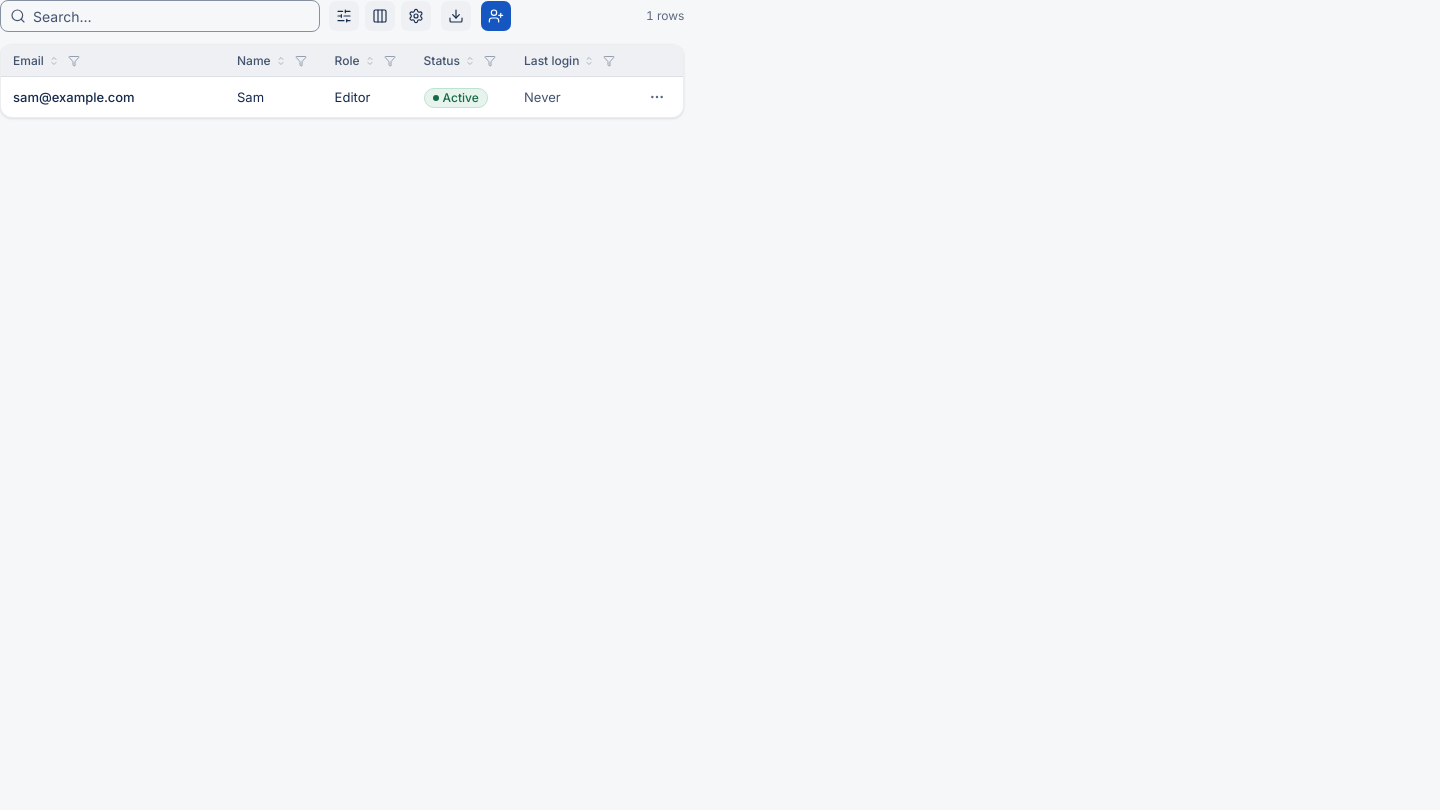
every list of records is a managed table covering every field › Users
Expected: the text "sam@example.com" is shown, [13, 87, 135, 107]
Click the button named "Columns": (380, 16) [364, 0, 396, 32]
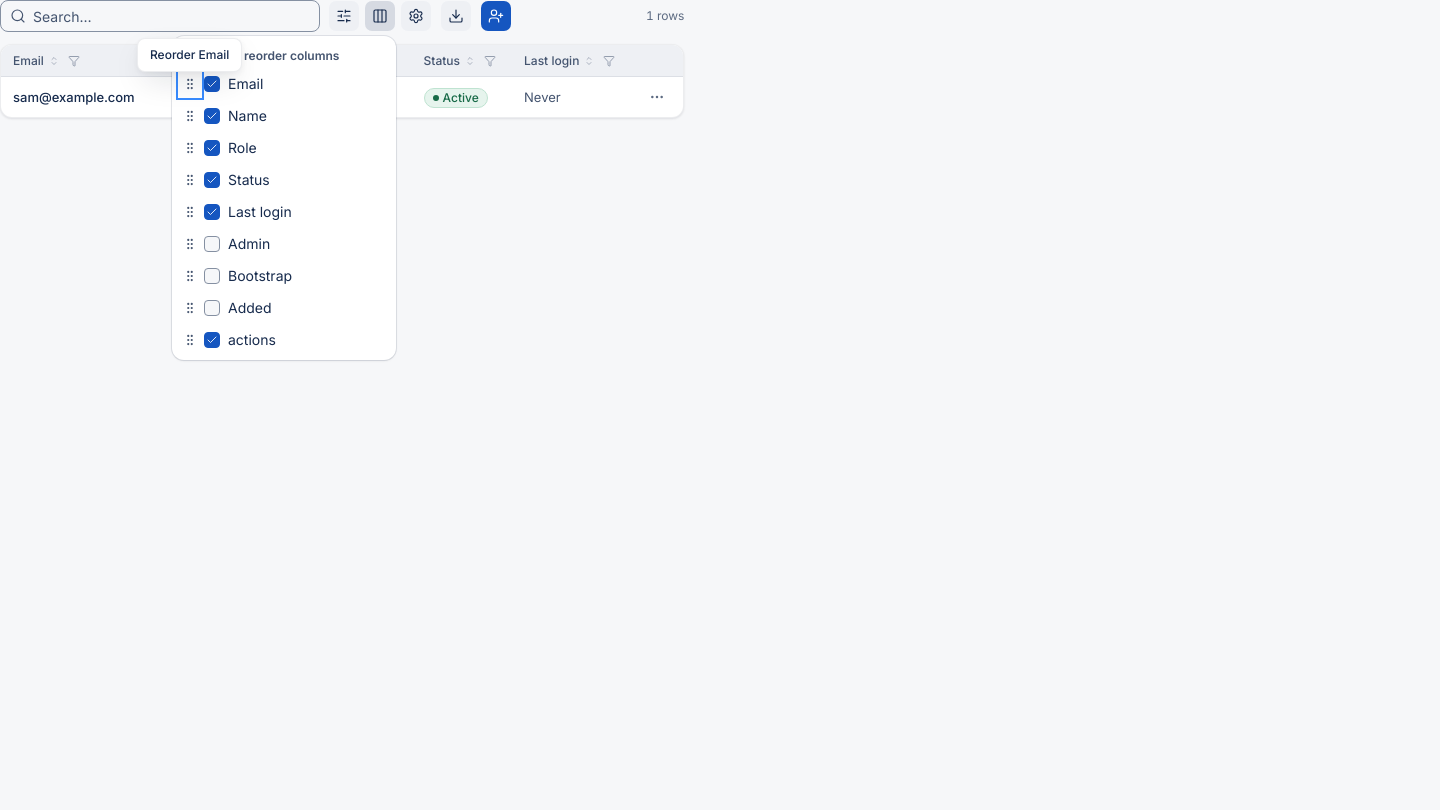
Expected: the 1st checkbox named "Email" is shown, [204, 76, 220, 92]
Expected: the 2nd checkbox named "Name" is shown, [204, 108, 220, 124]
Expected: the 3rd checkbox named "Role" is shown, [204, 140, 220, 156]
